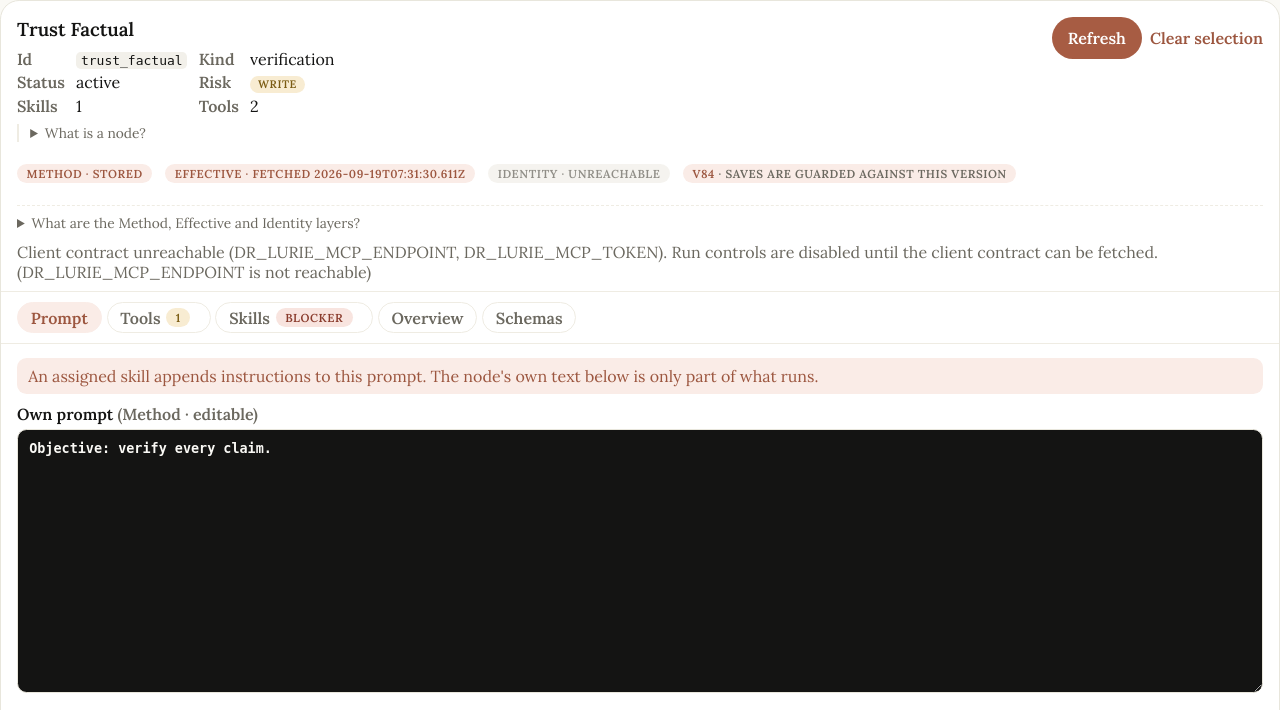
Test: NodeInspector write path › refuses to save without a reason, and says why the reason exists
Expected: the text "An assigned skill appends" is shown, [28,366,818,386]
Type " Extra." into the text box labelled "Own prompt (Method · editable)" at point(640, 561), box [17,429,1263,693]
(page scrolled)
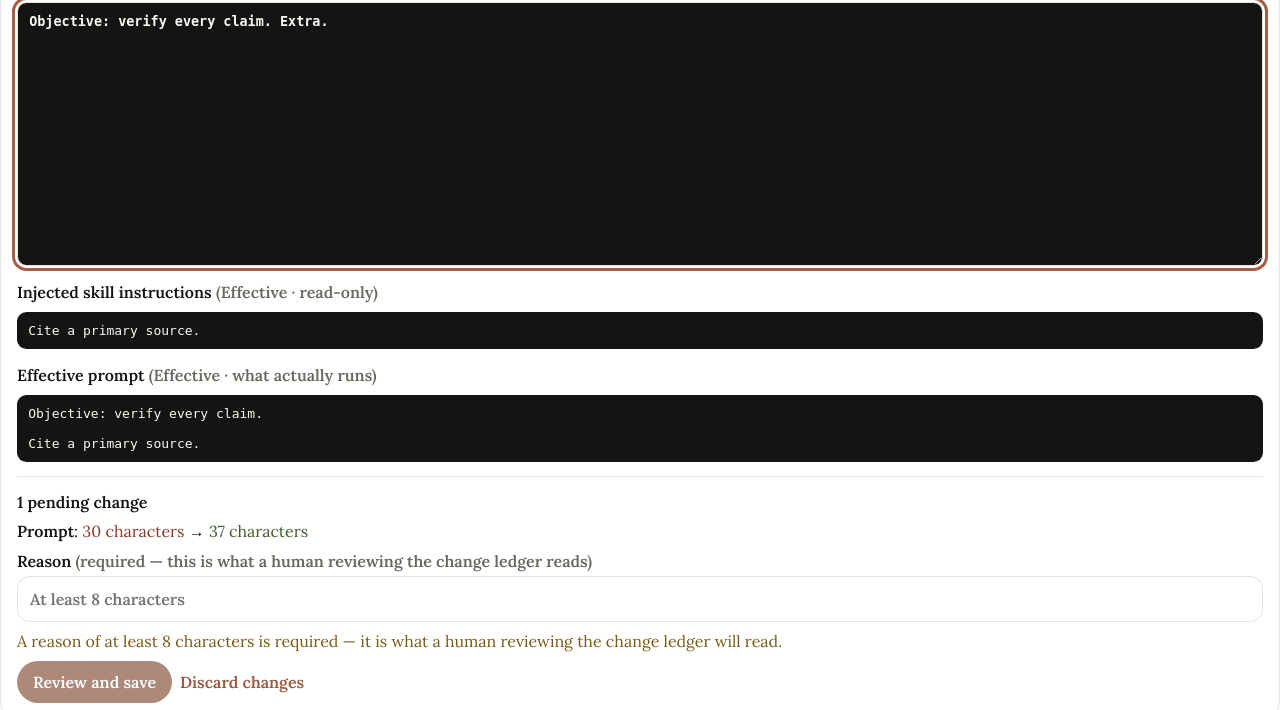
Expected: the button "Review and save" is disabled, [17,661,172,703]
Result: the list item "reason of at least 8 characters is required" is shown at [17,631,782,651]
